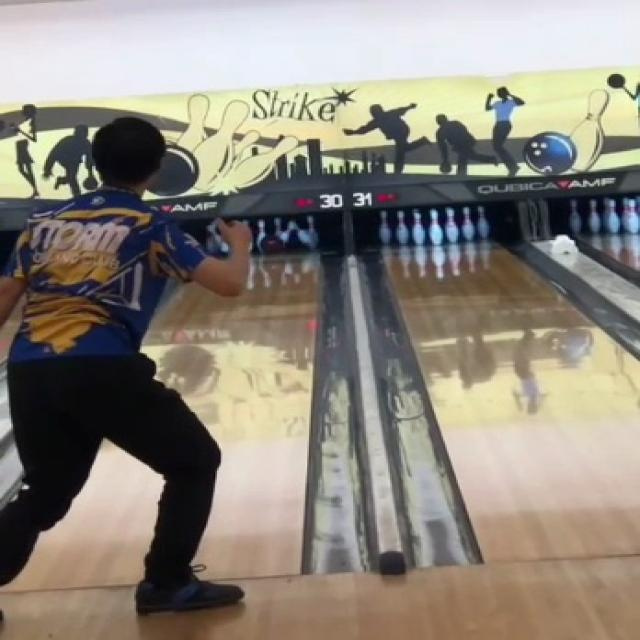alley: (143, 257, 318, 578), (6, 444, 160, 589)
balls: (261, 231, 280, 252)
bottle: (256, 216, 316, 251)
